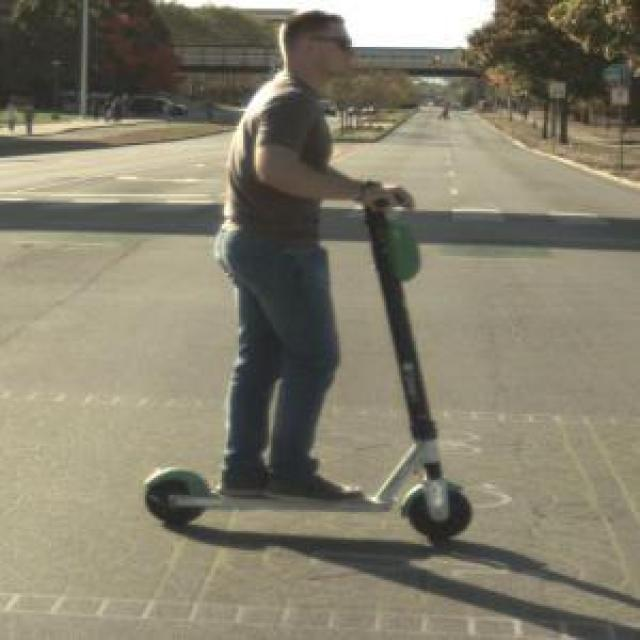pedestrian: (145, 10, 474, 543)
